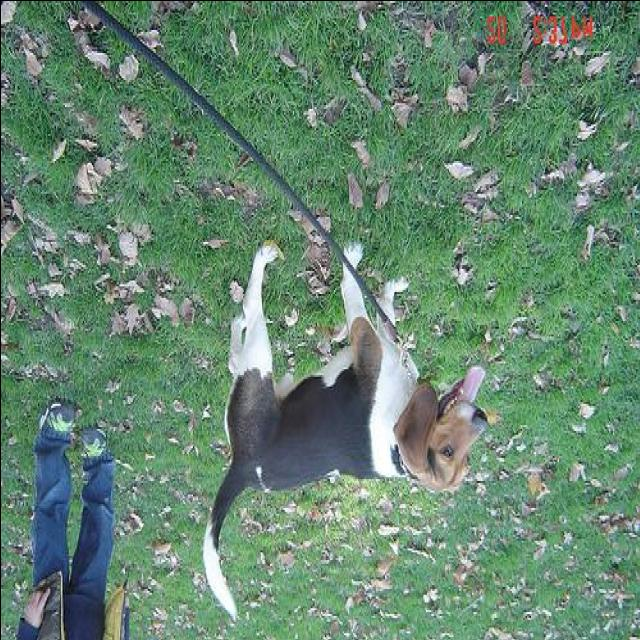beagle: (187, 237, 485, 621)
